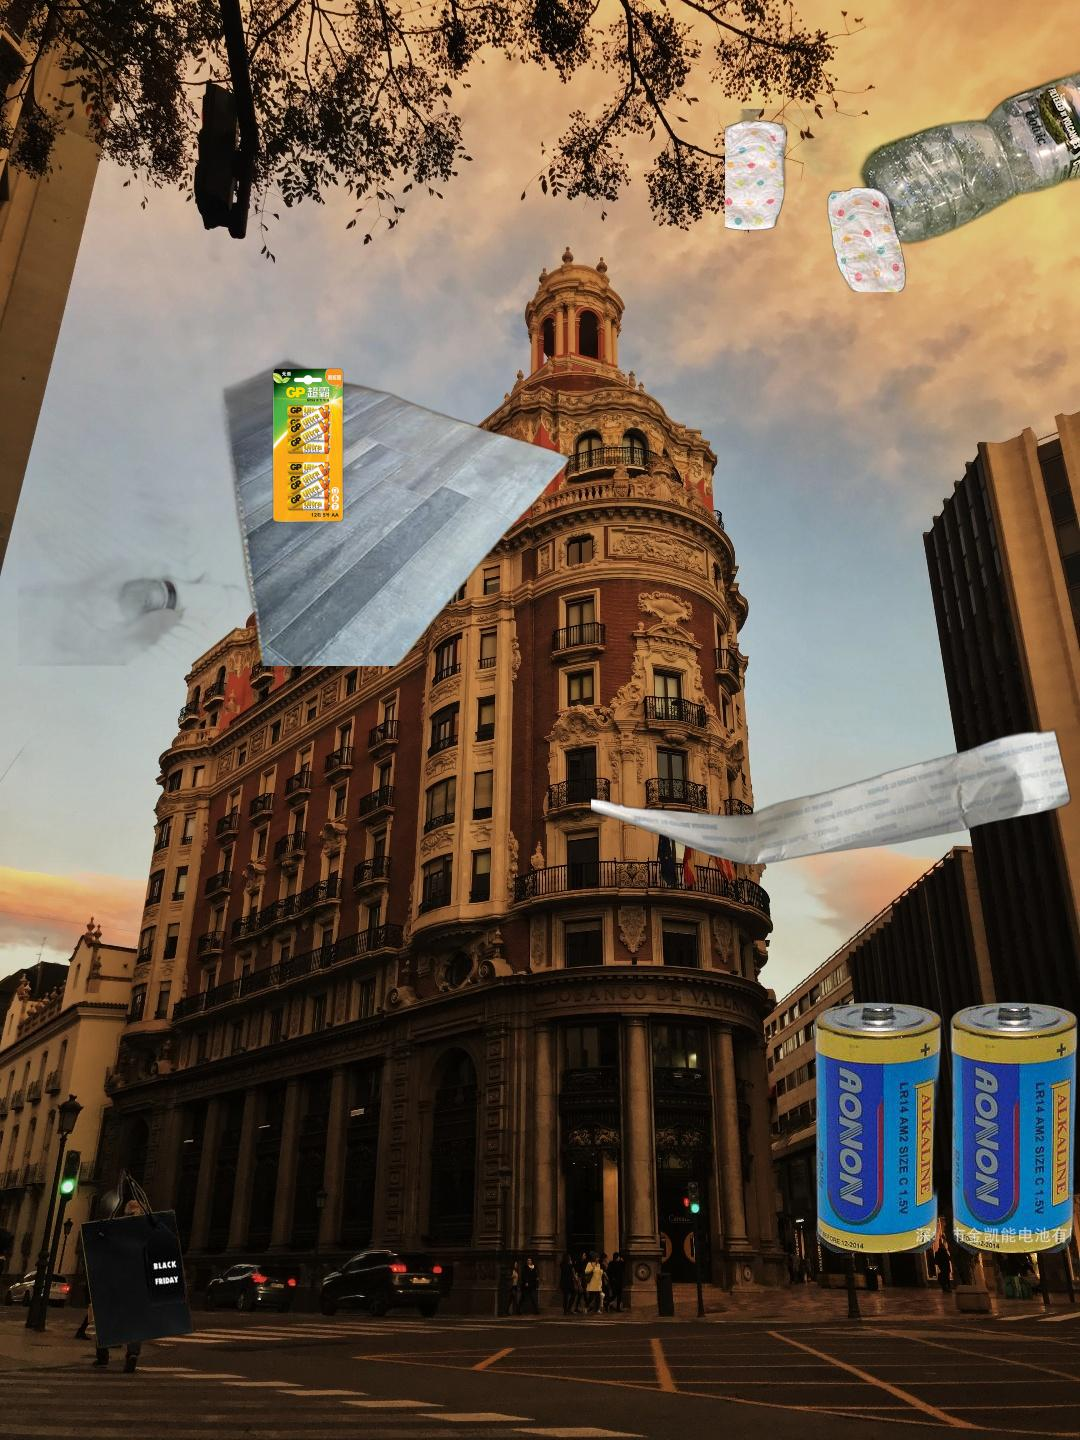battery: (811, 999, 1080, 1253), (229, 366, 387, 526), (1051, 1307, 1080, 1440)
paper: (591, 722, 1080, 869)
paper-bag: (77, 1166, 197, 1352)
plastic-bottles: (855, 63, 1080, 249)
trash: (725, 109, 908, 293)
trashbox-cardboard: (18, 285, 575, 666)
